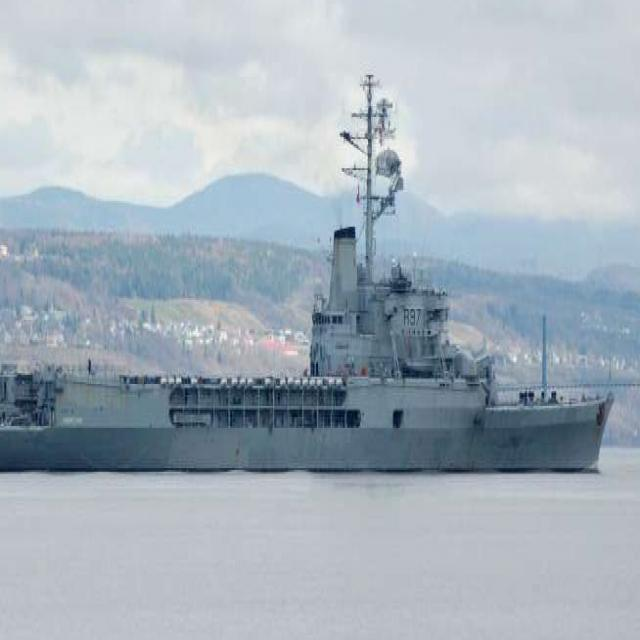Portanaves: (1, 51, 616, 477)
